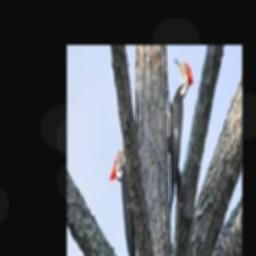Woodpecker: (165, 58, 192, 214), (109, 134, 137, 256)
